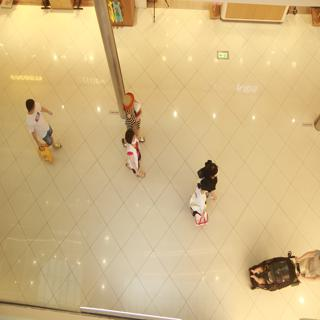person: (15, 91, 63, 175), (186, 171, 217, 235), (118, 126, 152, 180), (115, 85, 146, 132)
